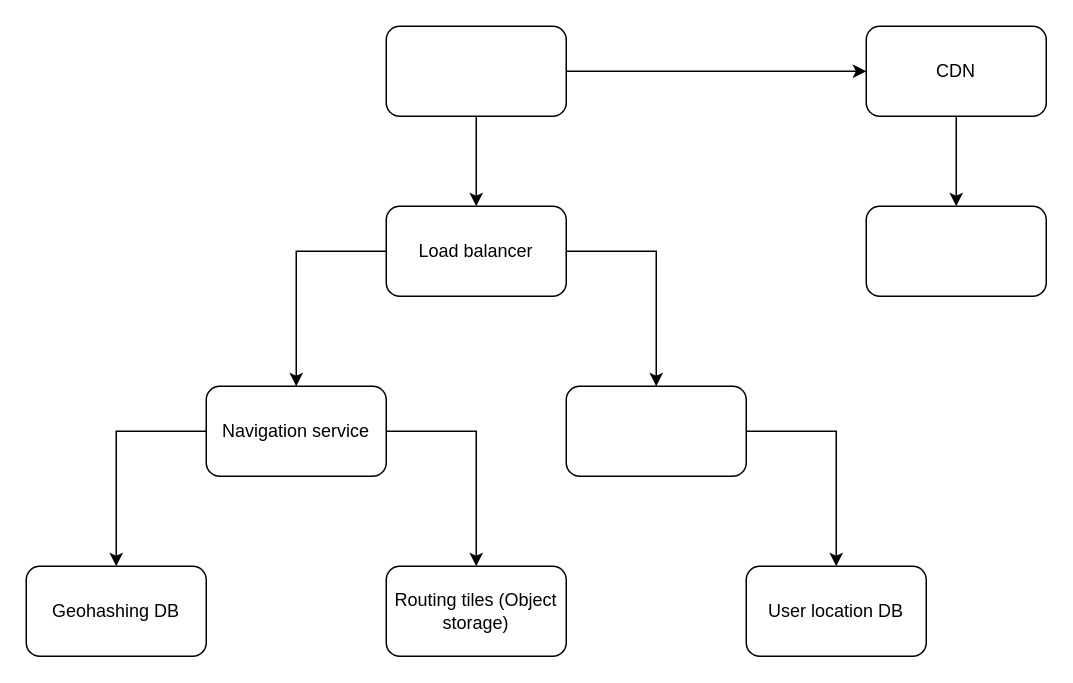
This 1073x683 diagram has some shape labels left out. The shapes that lost their labels are listed below. From the top down, each one's box as (x1, y1, x2, y2) in pixels, then its label:
(385, 25, 566, 116): User
(865, 205, 1046, 296): Precomputed map images
(565, 385, 746, 476): Location service
